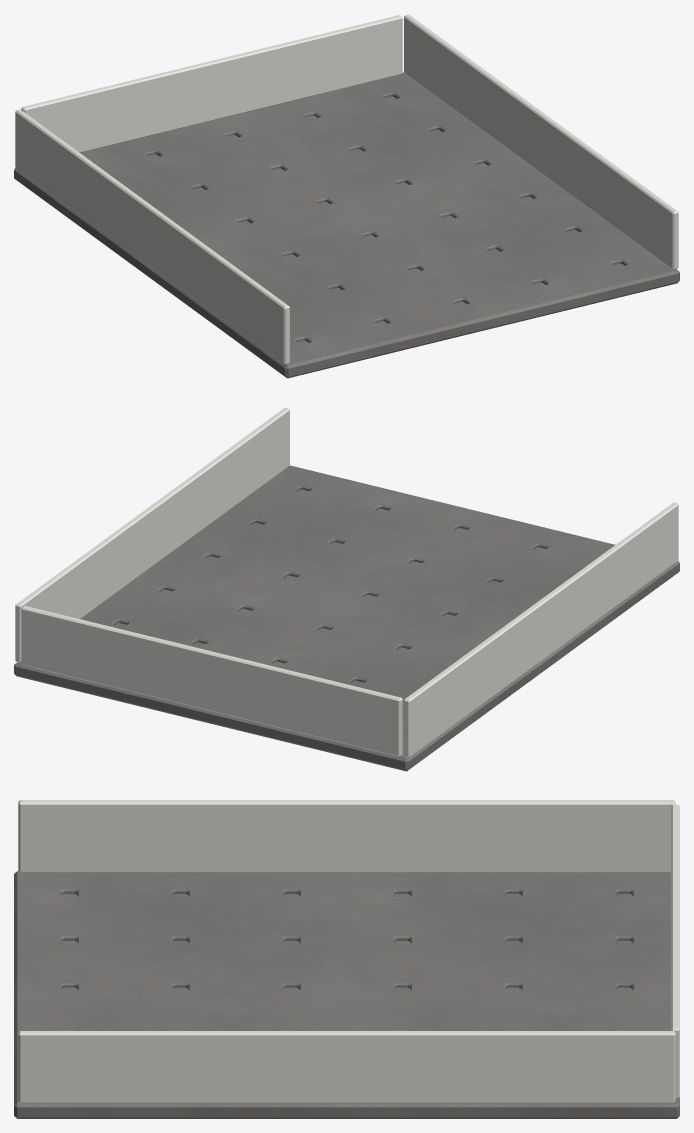
File: ax_rover_24_cargo_bed_l.glb
3 views of the same model, one above another, from view 1: azimuth 30°, elevation 25°; view 2: azimuth 150°, elevation 25°; view 3: azimuth 270°, elevation 25° (orthographic). The views are drawn at different scales.
Visible parts, largest first — view 1: bed_deck, panel_tailgate, panel_side_l, panel_side_r; view 2: bed_deck, panel_tailgate, panel_side_r, panel_side_l; view 3: bed_deck, panel_side_l, panel_side_r, panel_tailgate.
Part boxes in pixels (x1,y1,x2,y2): bed_deck: (14,72,679,378); panel_tailgate: (21,15,402,152); panel_side_l: (404,14,678,269); panel_side_r: (15,109,289,364); bed_deck: (14,465,679,771); panel_tailgate: (21,606,402,756); panel_side_r: (404,502,678,757); panel_side_l: (15,407,289,662); bed_deck: (14,871,679,1118); panel_side_l: (18,1031,675,1103); panel_side_r: (18,800,675,872); panel_tailgate: (671,804,679,1098).
Bounding box in the file's own units: 2.5 × 0.43 × 3.
2 materials, 1 textured.
